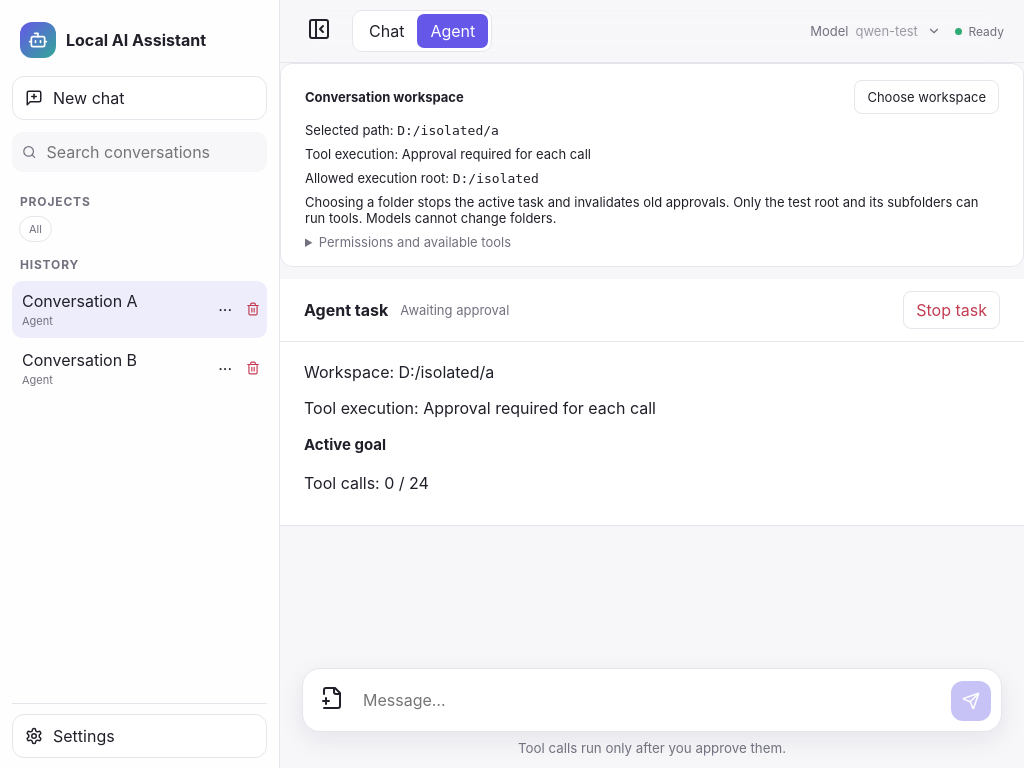
Test case: modern desktop › does not merge a late global task workspace into a newly selected conversation
Check: the text "D:/isolated/a" is shown, box [397,123,499,138]
Click the button "Conversation B Agent" at (112, 368), box [12,340,211,397]
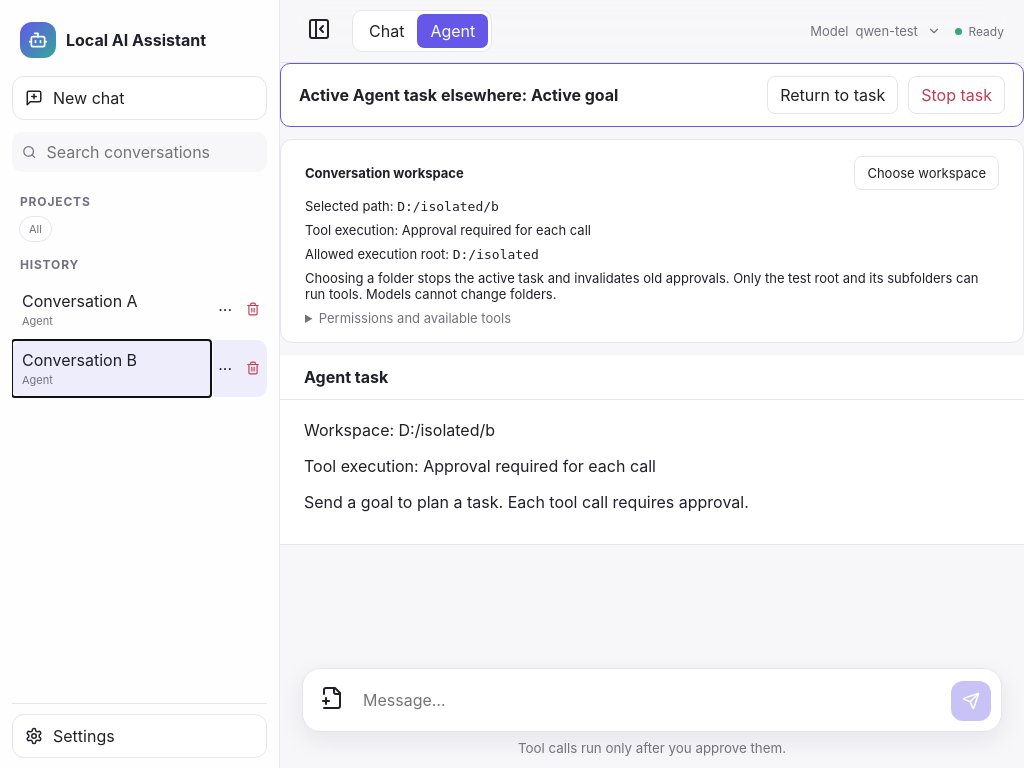
Check: the button "Stop task" is shown, box [908,76,1005,114]
Check: the text "D:/isolated/b" is shown, box [397,199,499,214]
